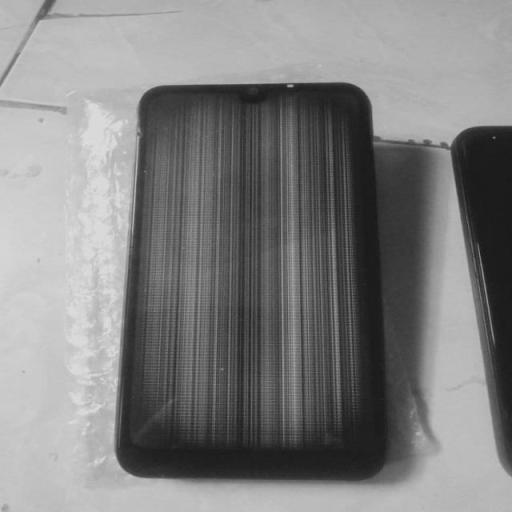phone: (116, 79, 389, 482), (455, 125, 512, 482)
